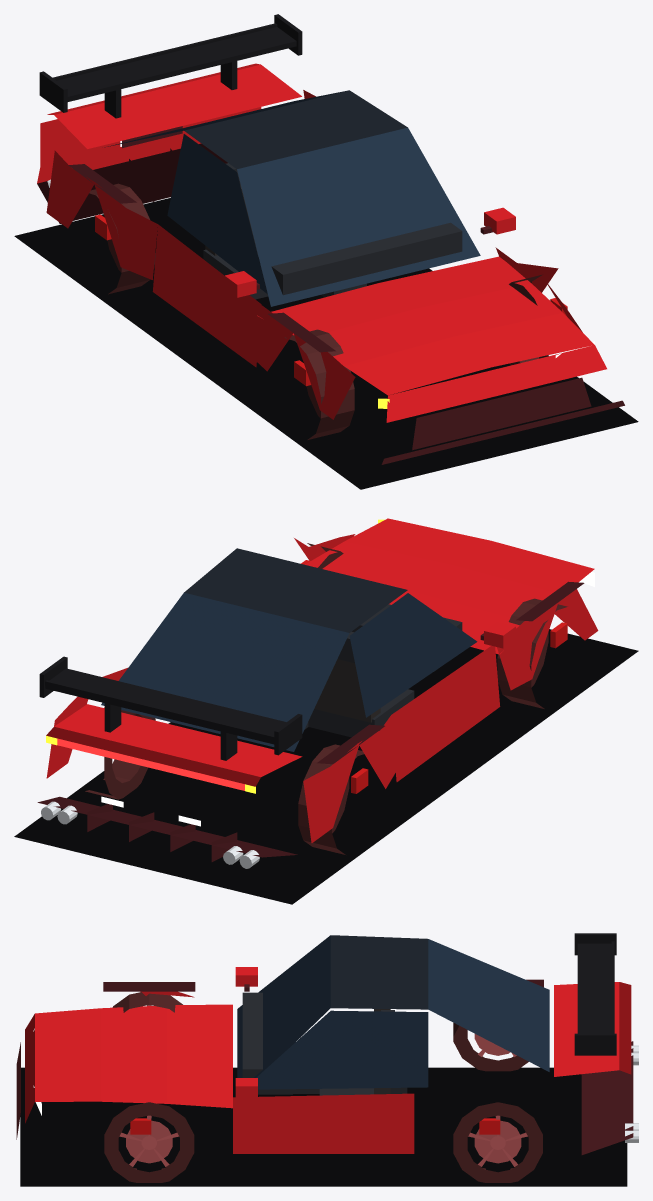
The model's file is apex_gt_sports_coupe_lod1.glb.
3 views of the same model, one above another, from view 1: azimuth 30°, elevation 25°; view 2: azimuth 150°, elevation 25°; view 3: azimuth 270°, elevation 25° (orthographic). The views are drawn at different scales.
Visible parts, largest first — view 1: Chassis, Glass, ContactShadow, Spoiler, Interior, Wheel_FL, Wheel_RL; view 2: Chassis, ContactShadow, Glass, Spoiler, Interior, Wheel_FL, Wheel_RL, Wheel_RR, BrakeLights, Exhaust; view 3: Chassis, ContactShadow, Glass, Wheel_RR, Wheel_FR, Spoiler, Interior, Wheel_RL, Wheel_FL, Exhaust.
Boxes of the visible parts, box(x1,y1,x2,y2) form: Chassis: box(37, 63, 624, 464); Glass: box(104, 90, 480, 306); ContactShadow: box(14, 198, 638, 489); Spoiler: box(39, 14, 302, 118); Interior: box(203, 163, 462, 299); Wheel_FL: box(284, 329, 354, 439); Wheel_RL: box(89, 183, 155, 294); Chassis: box(37, 518, 598, 861); ContactShadow: box(14, 629, 638, 904); Glass: box(101, 548, 477, 751); Spoiler: box(39, 656, 302, 760); Interior: box(304, 604, 462, 737); Wheel_FL: box(497, 598, 567, 708); Wheel_RL: box(298, 744, 368, 854); Wheel_RR: box(85, 707, 155, 799); BrakeLights: box(57, 738, 244, 790); Exhaust: box(41, 801, 259, 868); Chassis: box(16, 967, 633, 1154); ContactShadow: box(20, 1067, 627, 1186); Glass: box(237, 935, 549, 1089); Wheel_RR: box(453, 1102, 542, 1182); Wheel_FR: box(104, 1102, 194, 1182); Spoiler: box(574, 933, 616, 1055); Interior: box(242, 992, 407, 1095); Wheel_RL: box(453, 1022, 528, 1071); Wheel_FL: box(112, 992, 182, 1012); Exhaust: box(625, 1045, 638, 1142).
Size of the model in its own units: 2.02 by 1.25 by 4.48.
